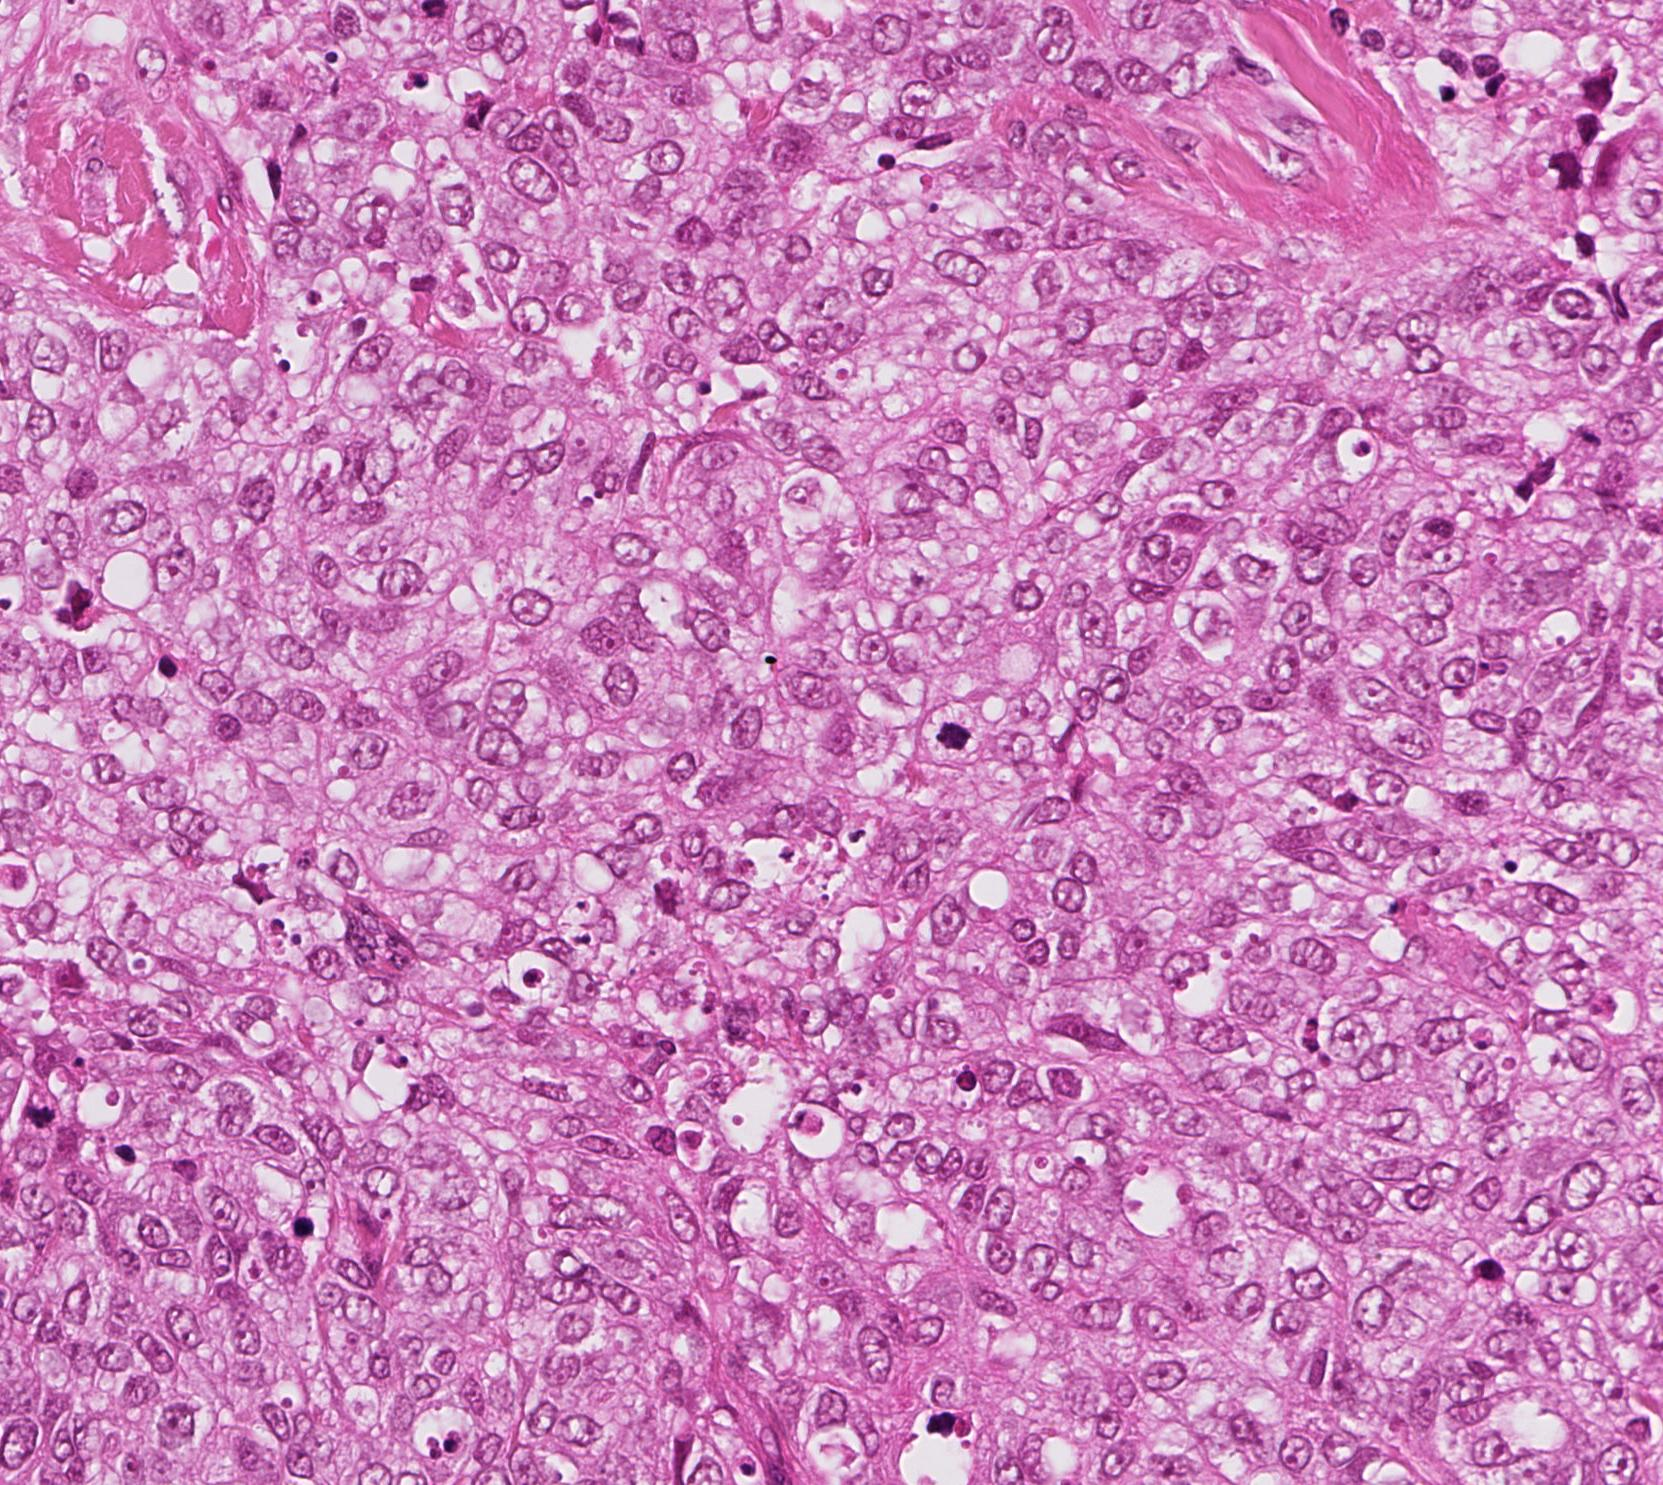mitosis: (925, 704, 983, 764)
